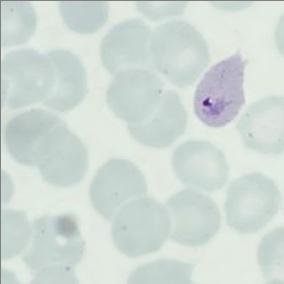Infected: (35, 154, 91, 232)
Uninfected: (73, 195, 135, 262), (111, 26, 173, 89), (199, 6, 263, 66), (137, 63, 195, 124), (217, 118, 280, 174), (2, 49, 59, 110), (196, 95, 249, 160), (119, 158, 179, 215), (229, 174, 284, 235), (128, 205, 185, 263), (63, 36, 119, 95), (56, 90, 113, 145), (197, 172, 247, 234), (98, 137, 154, 189), (0, 128, 49, 186)
